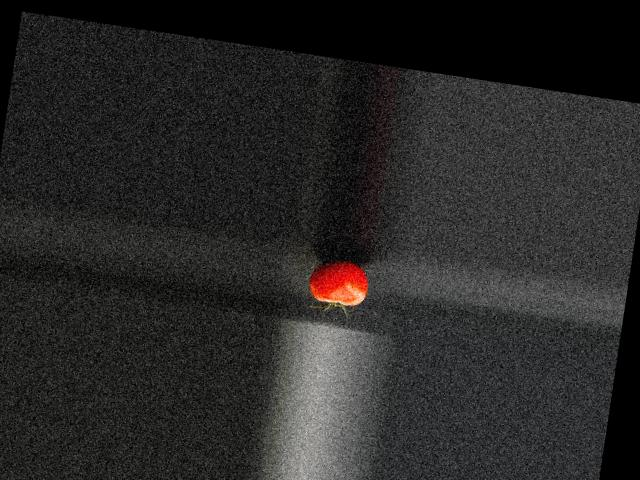tomato: (307, 256, 372, 307)
